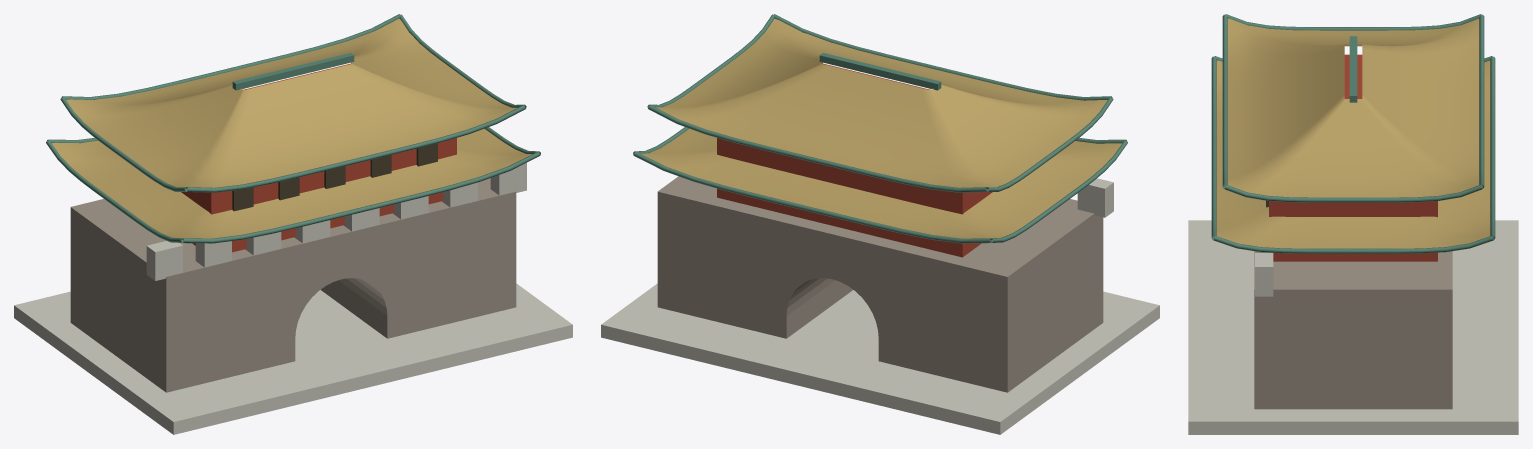
Rendered from beiping.glb.
3 views of the same model, side by side, from view 1: azimuth 30°, elevation 25°; view 2: azimuth 150°, elevation 25°; view 3: azimuth 270°, elevation 25° (orthographic). The views are drawn at different scales.
Parts seen in each view (by area): view 1: upper sweeping roof, left pier, stone plinth, right pier, lower eaves, arched stone span, red upper hall, green glazed edge.004, green glazed edge, green glazed edge.002, battlement, roof ridge (+10 smaller); view 2: upper sweeping roof, left pier, stone plinth, right pier, lower eaves, red upper hall, arched stone span, green glazed edge.006, green glazed edge.002, green glazed edge, roof ridge, battlement (+3 smaller); view 3: upper sweeping roof, stone plinth, right pier, lower eaves, red upper hall, green glazed edge.005, green glazed edge.001, green glazed edge.004, green glazed edge.006, green glazed edge.003, green glazed edge, green glazed edge.002 (+2 smaller).
Boxes of the visible parts, bbox=[...] form: upper sweeping roof: bbox=[66, 18, 517, 189]; left pier: bbox=[70, 199, 295, 392]; stone plinth: bbox=[14, 283, 572, 434]; right pier: bbox=[321, 178, 516, 338]; lower eaves: bbox=[52, 128, 531, 240]; arched stone span: bbox=[287, 218, 387, 335]; red upper hall: bbox=[181, 63, 456, 252]; green glazed edge.004: bbox=[181, 151, 540, 243]; green glazed edge: bbox=[185, 105, 525, 192]; green glazed edge.002: bbox=[61, 14, 400, 99]; battlement: bbox=[146, 241, 182, 280]; roof ridge: bbox=[232, 53, 354, 90]; upper sweeping roof: bbox=[656, 18, 1107, 189]; left pier: bbox=[878, 199, 1103, 392]; stone plinth: bbox=[601, 283, 1159, 434]; right pier: bbox=[657, 176, 852, 338]; lower eaves: bbox=[641, 128, 1121, 240]; red upper hall: bbox=[717, 63, 992, 257]; arched stone span: bbox=[786, 216, 886, 335]; green glazed edge.006: bbox=[633, 151, 992, 243]; green glazed edge.002: bbox=[648, 105, 988, 192]; green glazed edge: bbox=[773, 14, 1112, 100]; roof ridge: bbox=[819, 53, 941, 90]; battlement: bbox=[1077, 178, 1113, 217]; upper sweeping roof: bbox=[1225, 18, 1481, 197]; stone plinth: bbox=[1188, 220, 1518, 434]; right pier: bbox=[1254, 251, 1452, 409]; lower eaves: bbox=[1214, 60, 1492, 248]; red upper hall: bbox=[1269, 54, 1437, 261]; green glazed edge.005: bbox=[1213, 236, 1493, 253]; green glazed edge.001: bbox=[1224, 184, 1482, 202]; green glazed edge.004: bbox=[1211, 56, 1216, 239]; green glazed edge.006: bbox=[1490, 56, 1495, 239]; green glazed edge.003: bbox=[1226, 14, 1480, 30]; green glazed edge: bbox=[1222, 14, 1227, 188]; green glazed edge.002: bbox=[1479, 14, 1484, 188].
Bounding box in the file's own units: 6.5 × 4.03 × 4.5.
